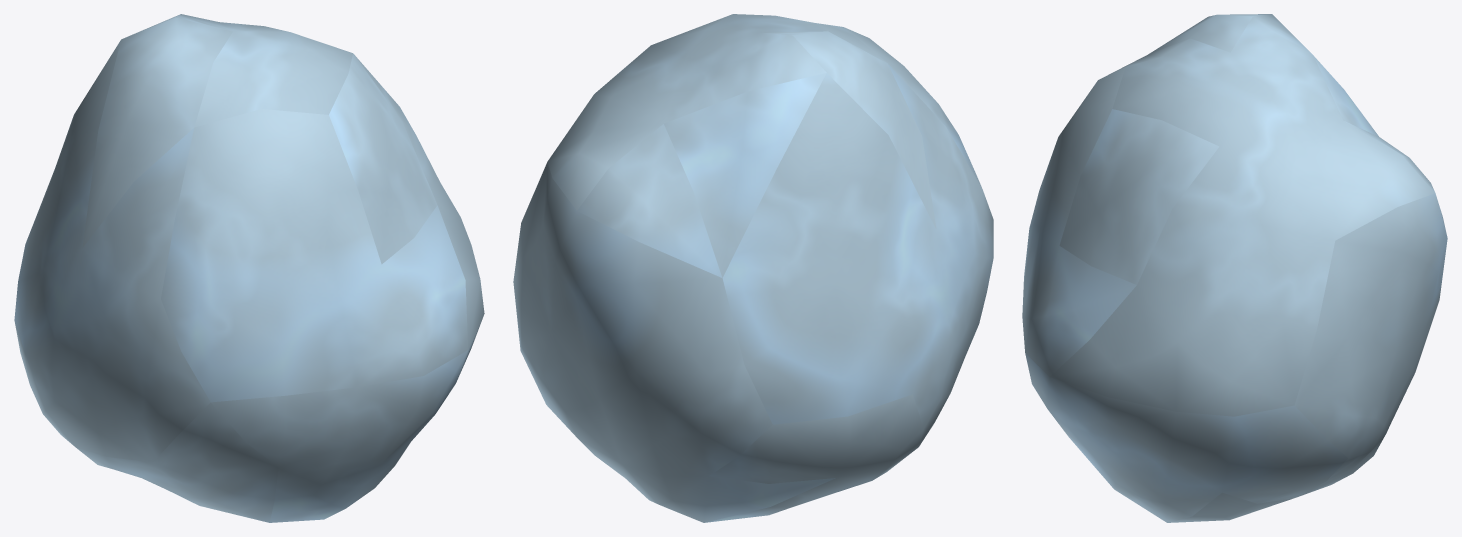
File: iceberg.fbx
3 views of the same model, side by side, from view 1: azimuth 30°, elevation 25°; view 2: azimuth 150°, elevation 25°; view 3: azimuth 270°, elevation 25° (orthographic). The views are drawn at different scales.
Parts seen in each view (by area): view 1: iceberg; view 2: iceberg; view 3: iceberg.
Part boxes in pixels (<box>): iceberg: <box>14,14,484,522</box>; iceberg: <box>513,14,993,522</box>; iceberg: <box>1022,14,1447,522</box>.
Bounding box in the file's own units: 536 × 614 × 519.
